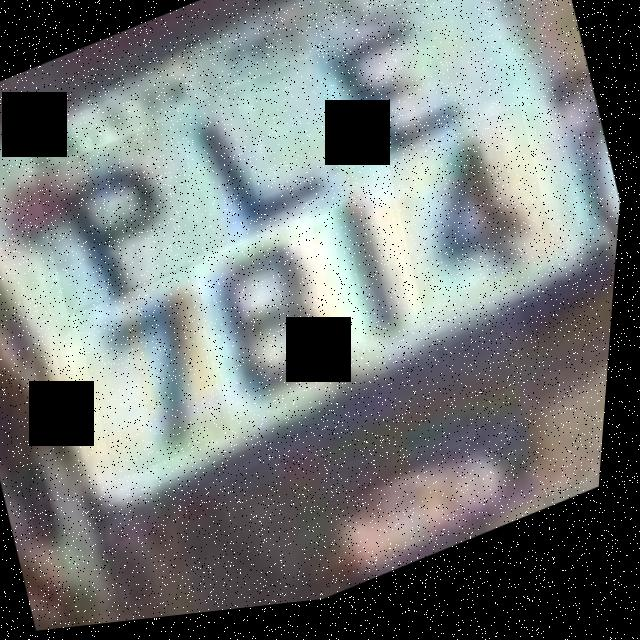1: (305, 192, 436, 371)
4: (379, 112, 579, 355)
7: (69, 262, 250, 488)
8: (182, 214, 364, 433)
E: (310, 0, 506, 198)
L: (163, 55, 368, 266)
P: (28, 118, 218, 323)
